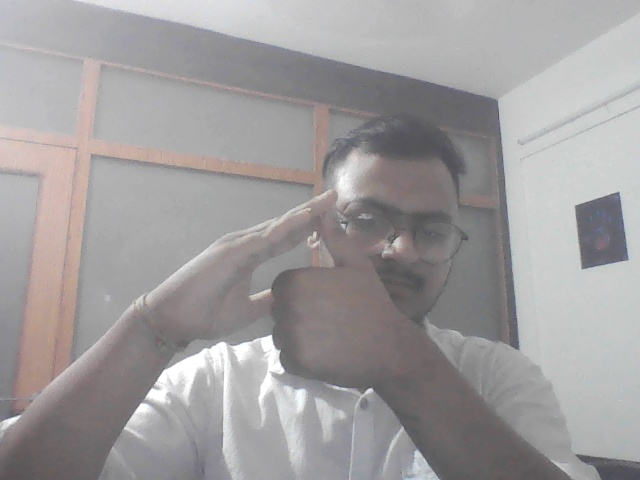I Feel You: (173, 184, 388, 393)
